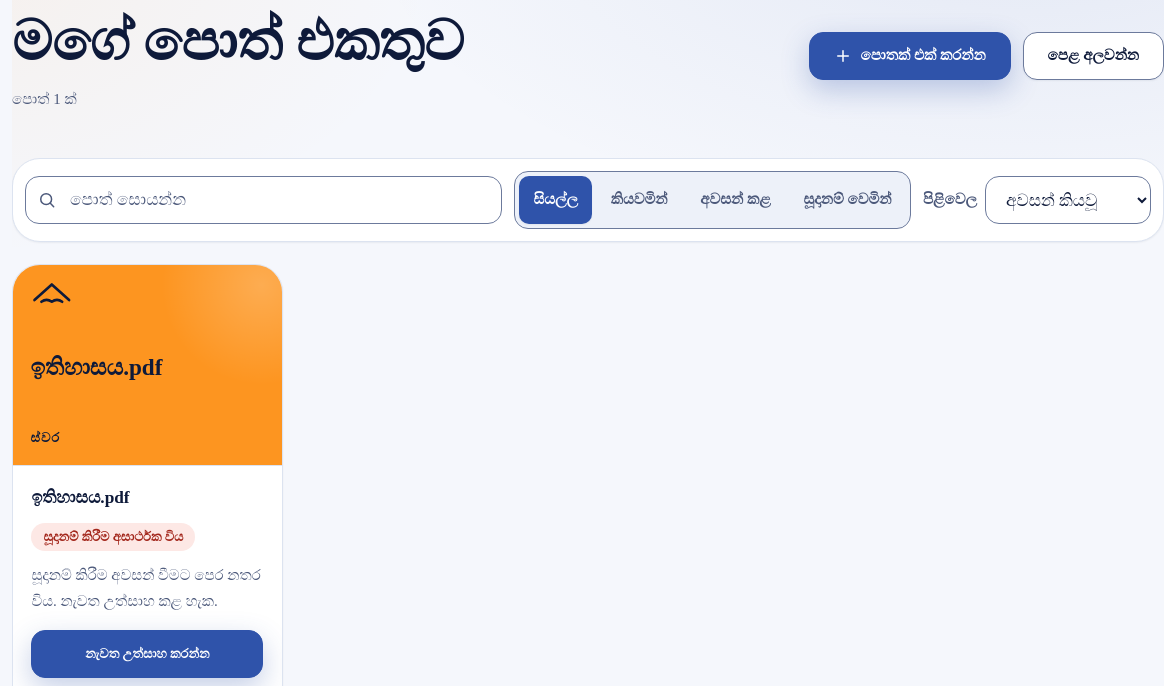
Test case: a book that is not ready › tries again, says so, and keeps focus on the book
Click the button "නැවත උත්සාහ කරන්න" at (147, 654), box [31,630,263,678]
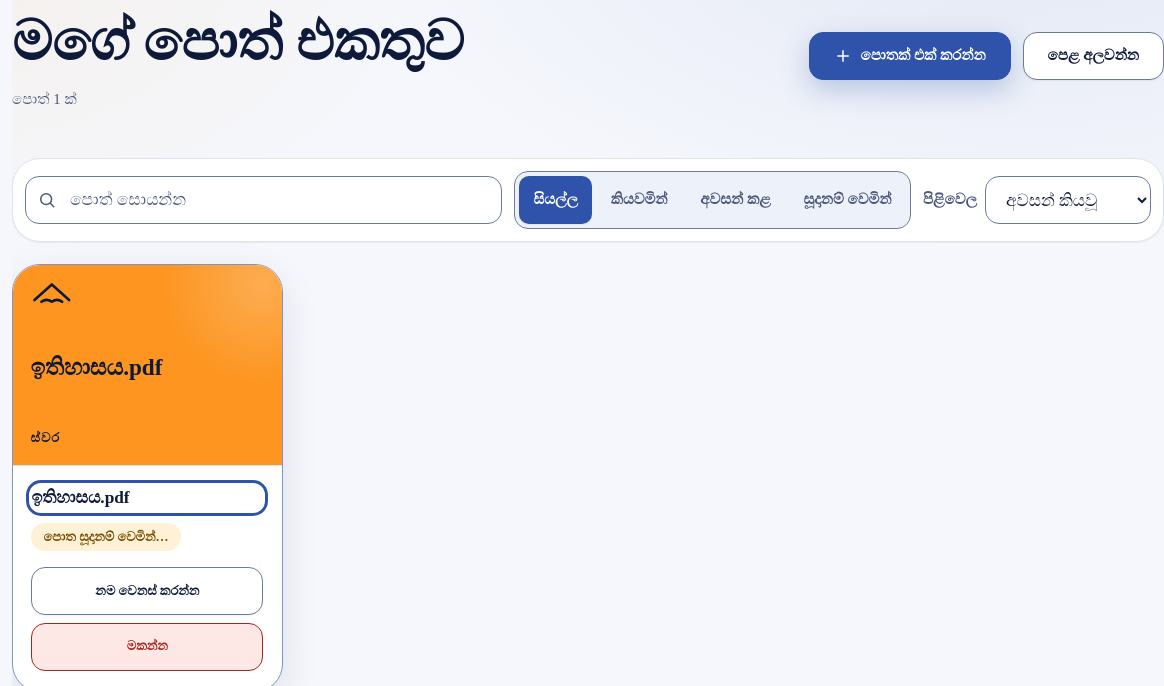
Expected: the text "පොත සූදානම් වෙමින්…" is shown, [31,522,180,551]
